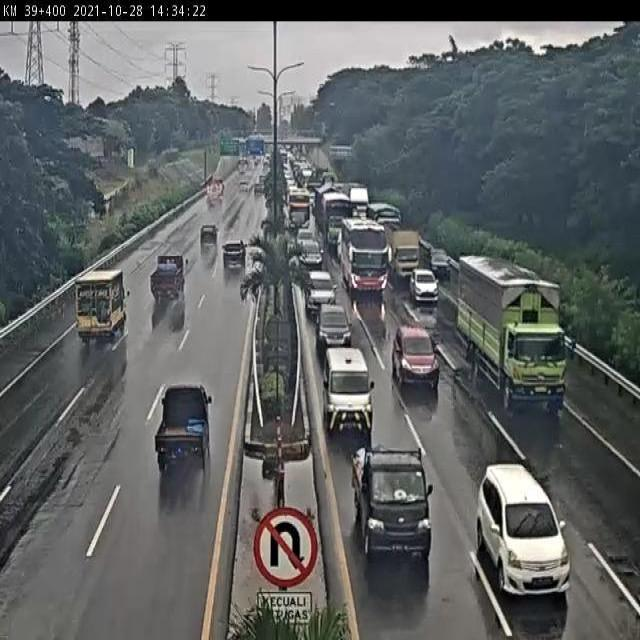big bus: (340, 215, 388, 296), (320, 190, 353, 242), (283, 195, 311, 236)
car: (475, 464, 574, 595), (351, 451, 435, 565), (156, 387, 215, 469), (318, 341, 371, 431), (392, 324, 441, 393), (317, 292, 352, 348), (409, 268, 438, 307), (305, 260, 332, 301), (221, 236, 249, 273), (425, 246, 451, 278), (198, 223, 219, 252), (297, 238, 318, 266), (292, 220, 309, 240)
small truck: (74, 272, 131, 344), (384, 222, 424, 286), (149, 257, 192, 308)
truck-l-: (457, 252, 580, 409)
